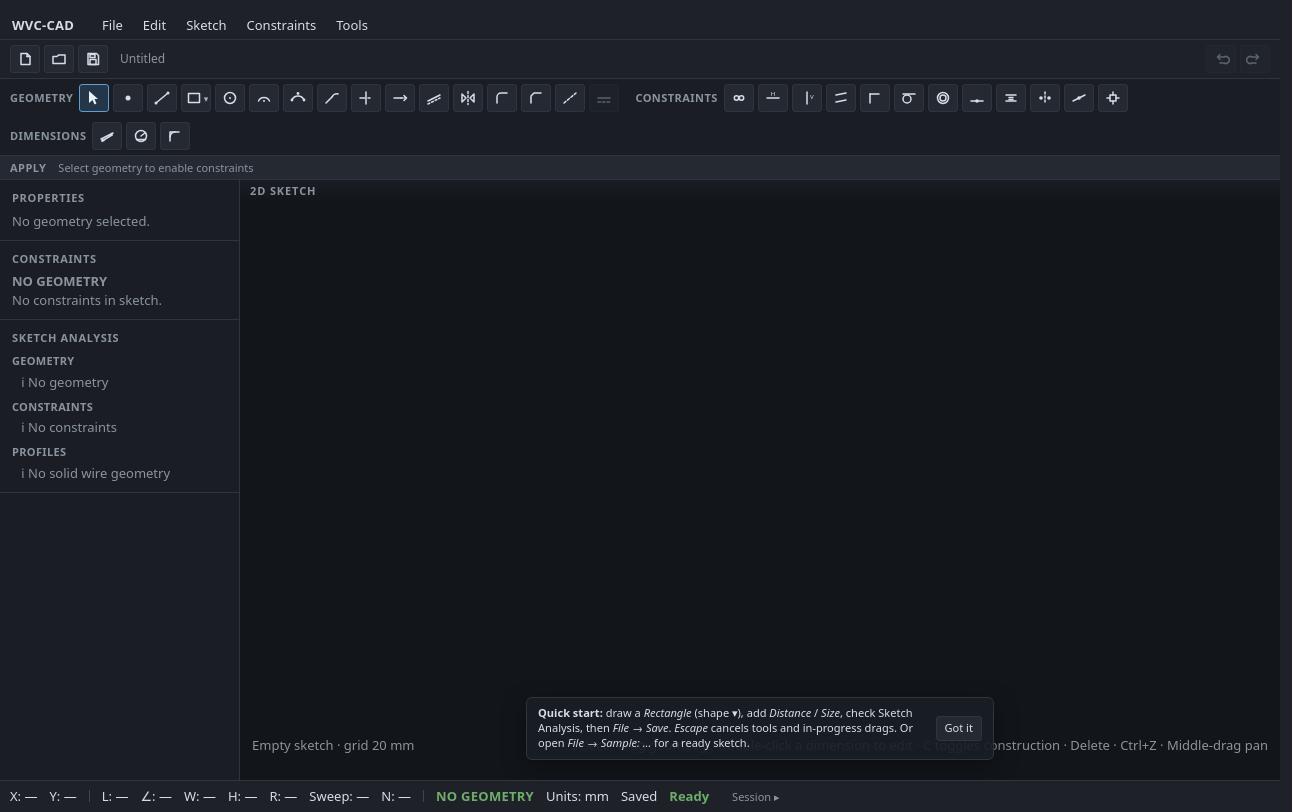
Test: App point tool › returns to select mode on Escape
Step 1. Click the button named "Point" → [128, 98], box [113,84,143,112]
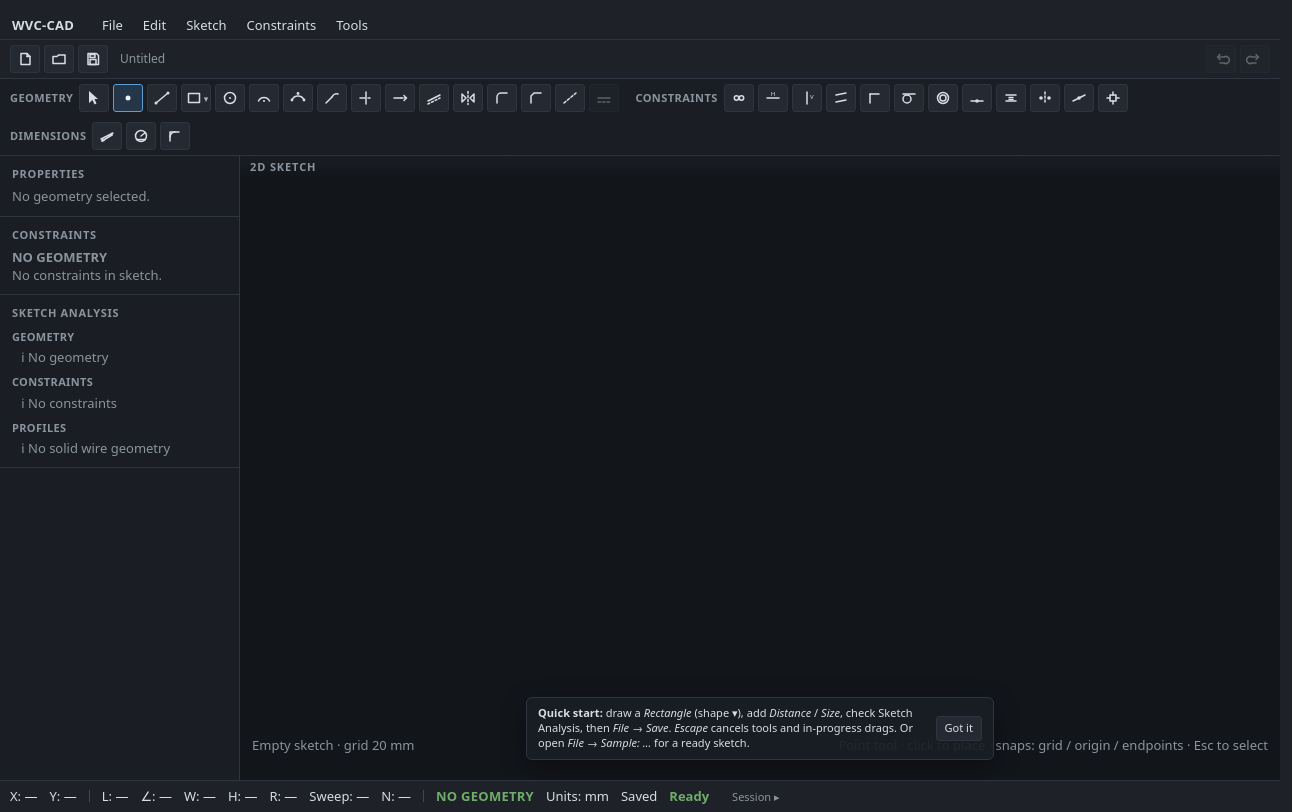
Step 2. Press Escape
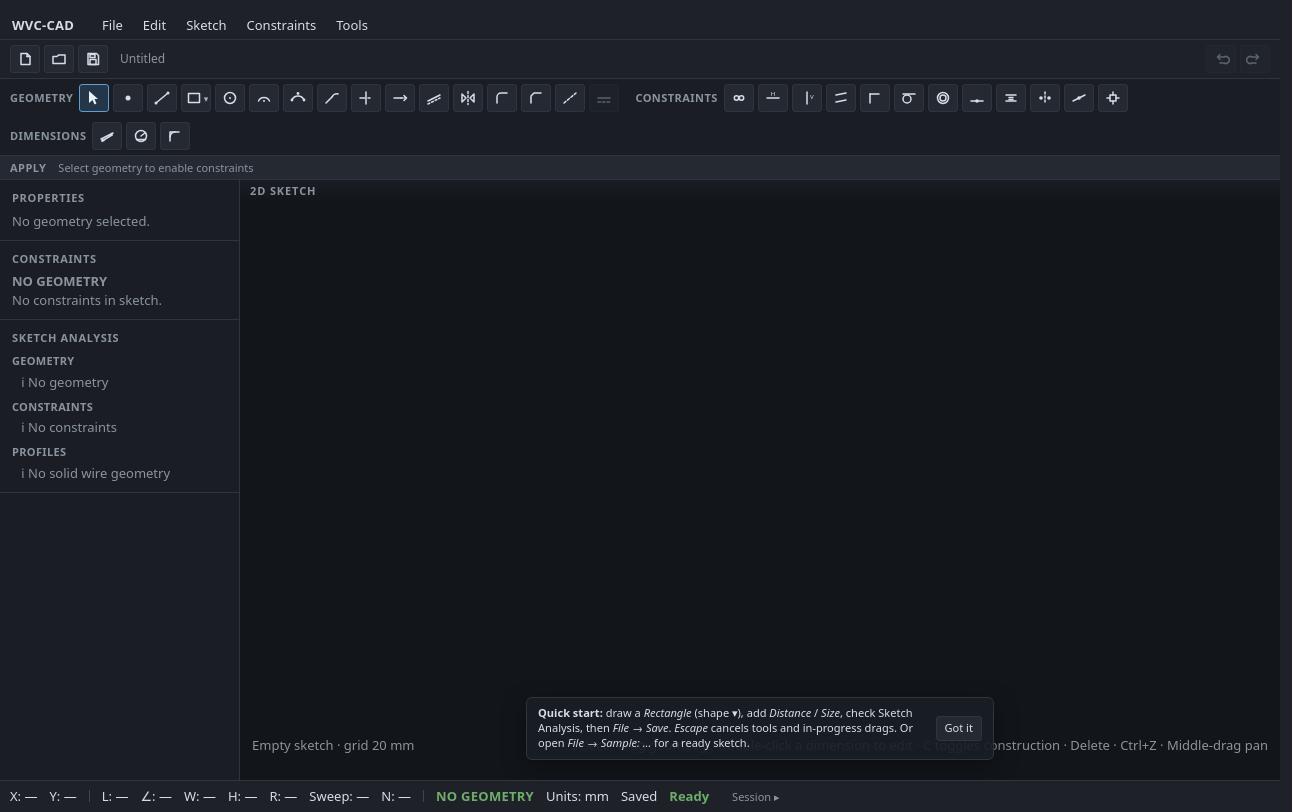
Step 3. Click the button with test id "status-session-toggle" → [756, 796], box [725,786,787,807]
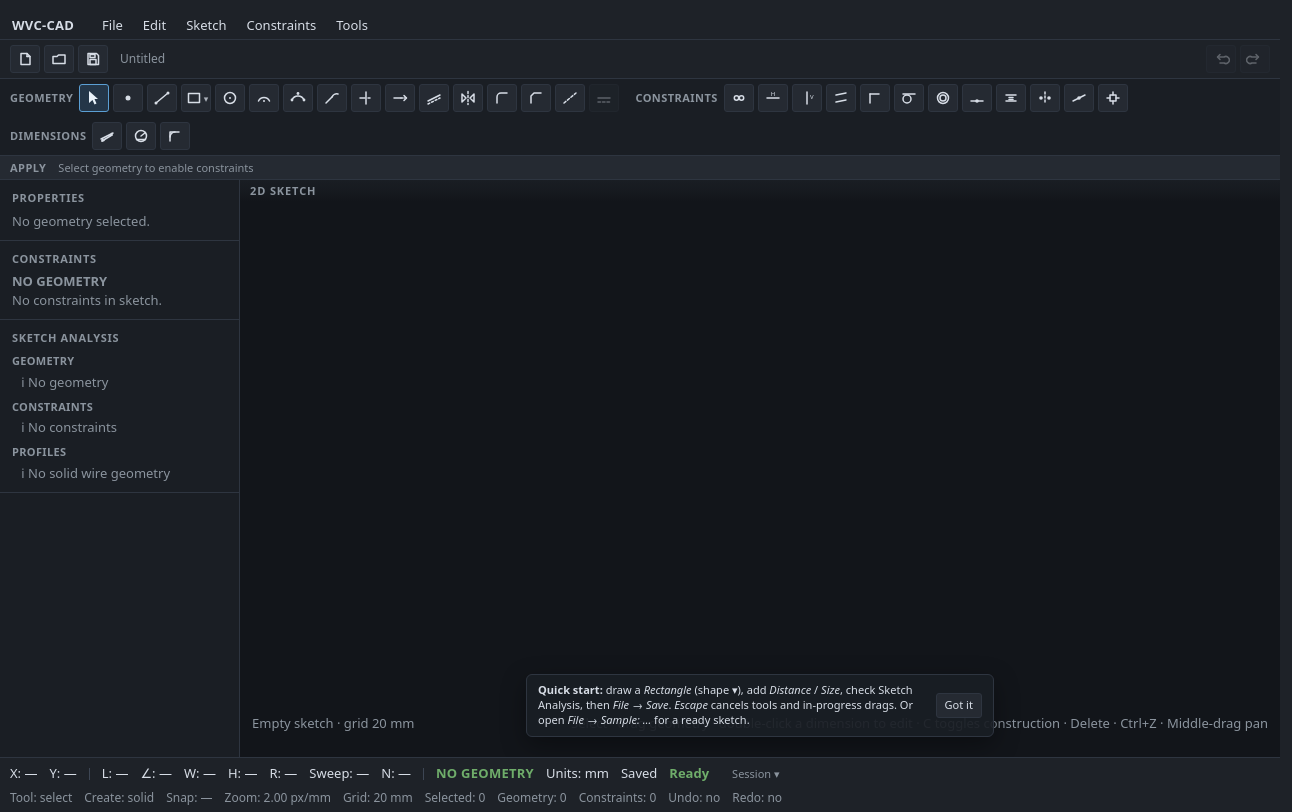
Expected: the message shows "Tool: select", [0,757,1280,811]
